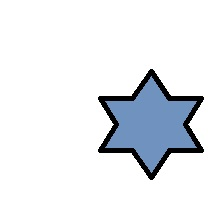star: (96, 68, 205, 181)
